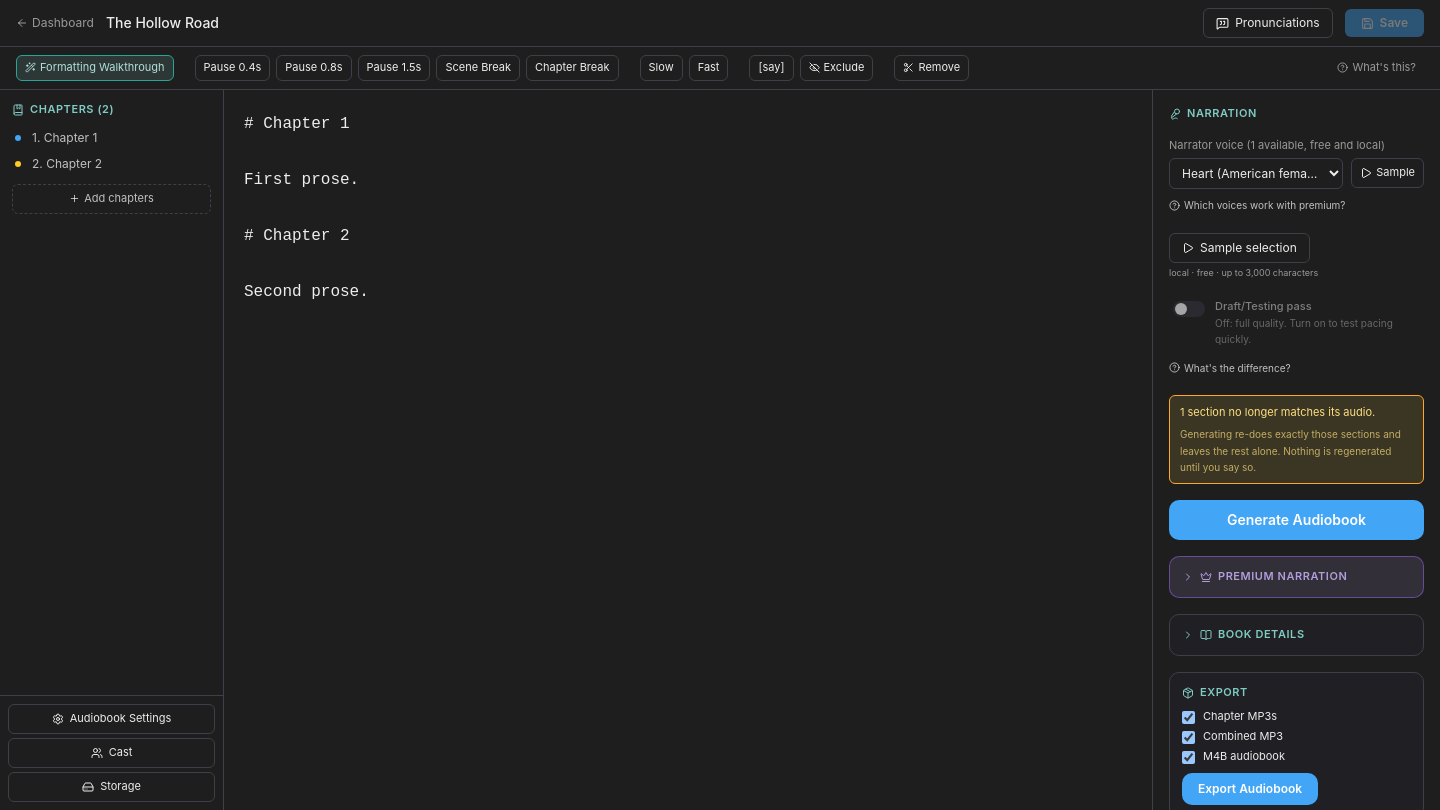
WorkspaceView › pauses insert INLINE without shredding the paragraph
Click the button "Pause 0.8s" at (314, 68), box [276,55,352,81]
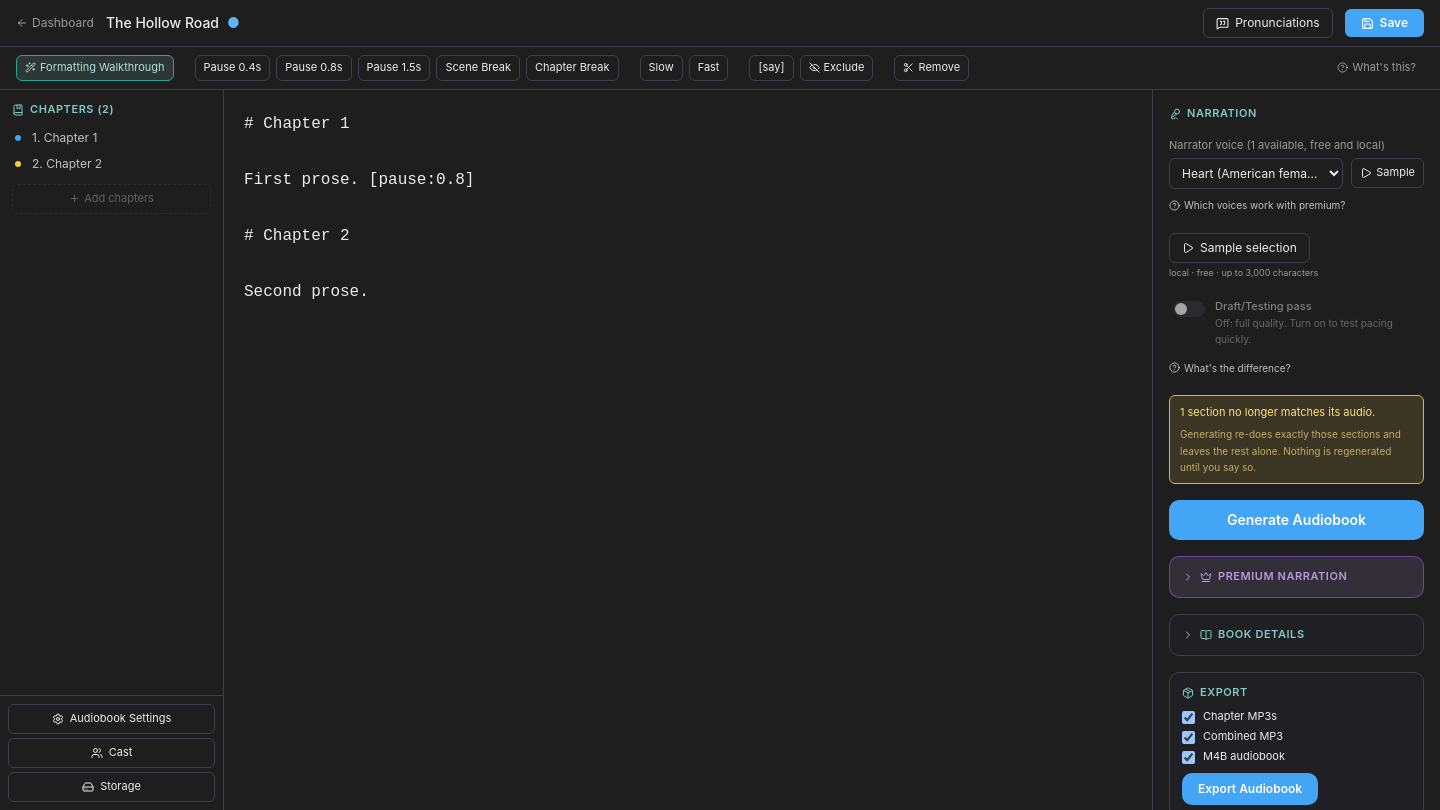
Expected: the text titled "Unsaved changes" is shown, [227,14,240,31]
